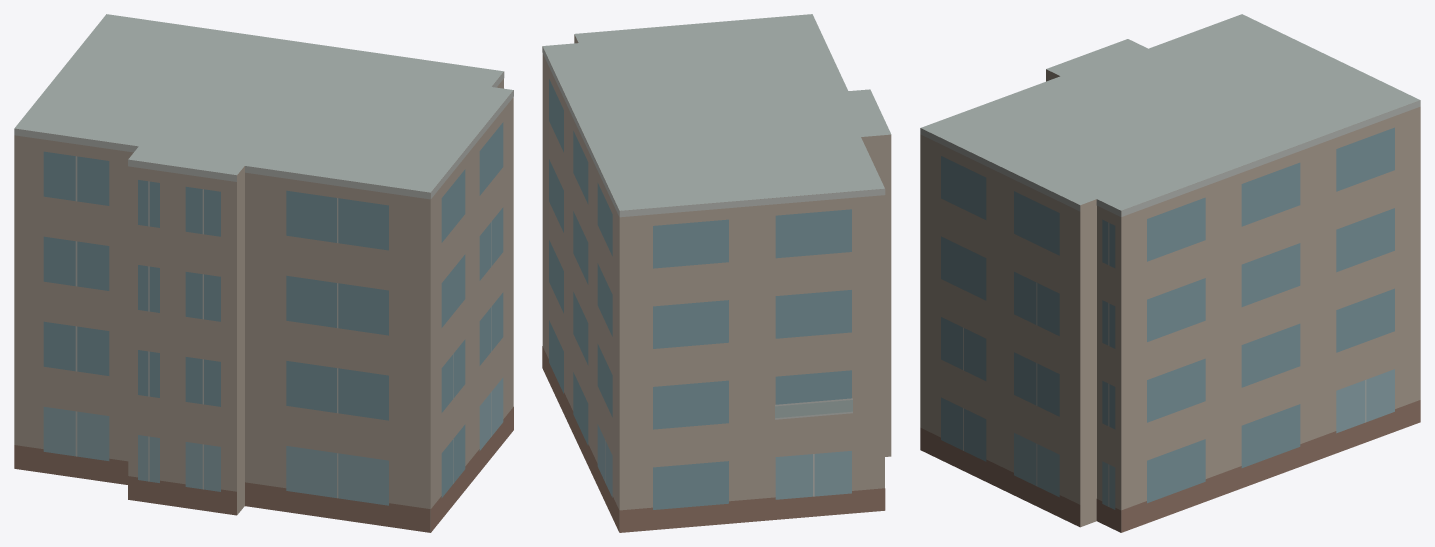
File: residential-facbdaec-c7dc-4035-bcf1-2ebd890128ae.glb
3 renders of one model, left to right at view 1: azimuth 30°, elevation 25°; view 2: azimuth 150°, elevation 25°; view 3: azimuth 270°, elevation 25°, orthographic. The views are drawn at different scales.
Parts seen in each view (by area): view 1: residential-facbdaec-c7dc-4035-bcf1-2ebd890128ae.tmp; view 2: residential-facbdaec-c7dc-4035-bcf1-2ebd890128ae.tmp; view 3: residential-facbdaec-c7dc-4035-bcf1-2ebd890128ae.tmp.
Part boxes in pixels (left/top/right/bottom): residential-facbdaec-c7dc-4035-bcf1-2ebd890128ae.tmp: left=14, top=14, right=513, bottom=532; residential-facbdaec-c7dc-4035-bcf1-2ebd890128ae.tmp: left=542, top=14, right=891, bottom=532; residential-facbdaec-c7dc-4035-bcf1-2ebd890128ae.tmp: left=920, top=14, right=1420, bottom=532.
Size of the model in its own units: 15.99 by 12.2 by 17.17.
